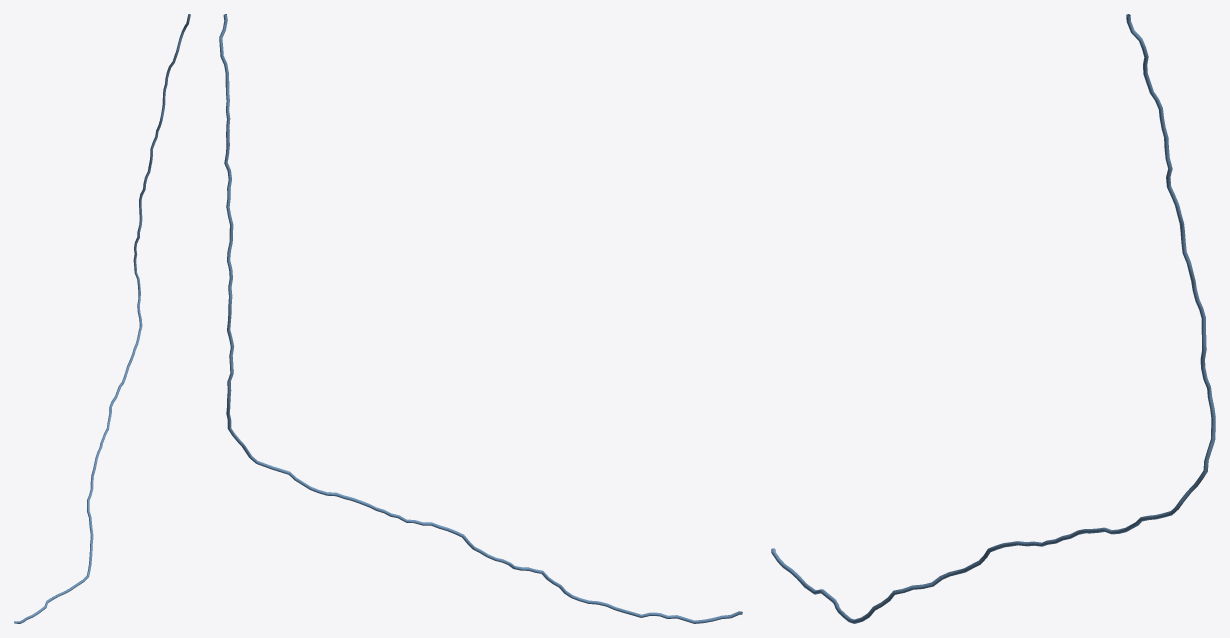
File: sweep151.fbx
The picture shows the model from 3 angles, left to right: view 1: azimuth 30°, elevation 25°; view 2: azimuth 150°, elevation 25°; view 3: azimuth 270°, elevation 25°; orthographic projection. The views are drawn at different scales.
Parts seen in each view (by area): view 1: sweep151; view 2: sweep151; view 3: sweep151.
Boxes of the visible parts, x1,y1,x2,y2 form: sweep151: [14, 14, 190, 623]; sweep151: [219, 14, 742, 623]; sweep151: [771, 14, 1215, 623].
Bounding box in the file's own units: 2.41 × 3.82 × 1.98.
